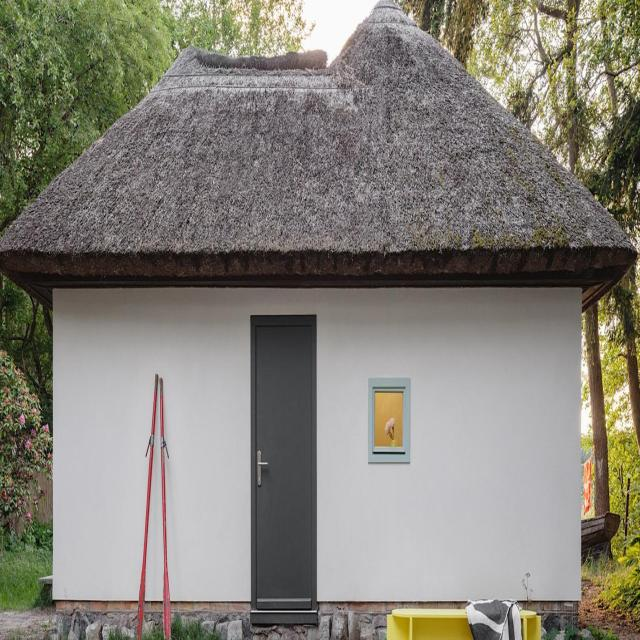door: (251, 311, 316, 626)
window: (369, 377, 411, 466)
